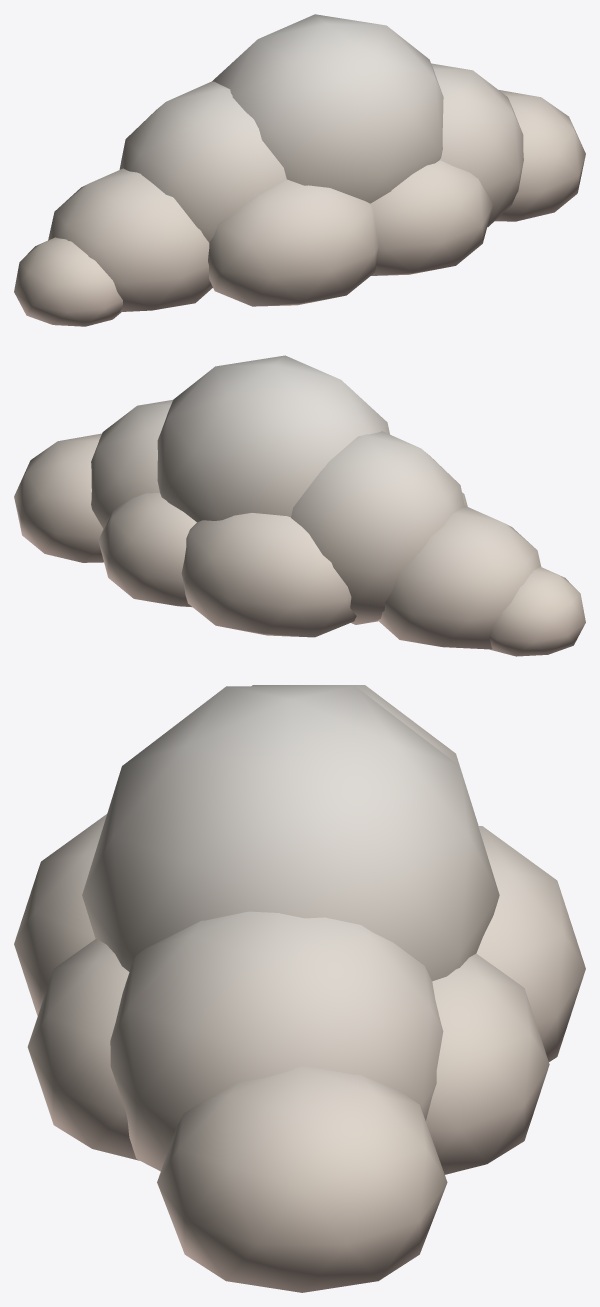
The model's file is stylized_cloud.glb.
3 renders of one model, top to bottom at view 1: azimuth 30°, elevation 25°; view 2: azimuth 150°, elevation 25°; view 3: azimuth 270°, elevation 25°, orthographic. The views are drawn at different scales.
Parts seen in each view (by area): view 1: StylizedCloud; view 2: StylizedCloud; view 3: StylizedCloud.
Part boxes in pixels (x1,y1,x2,y2): StylizedCloud: [14, 14, 585, 326]; StylizedCloud: [14, 355, 585, 656]; StylizedCloud: [14, 685, 585, 1292].
Bounding box in the file's own units: 5.02 × 1.92 × 2.52.
